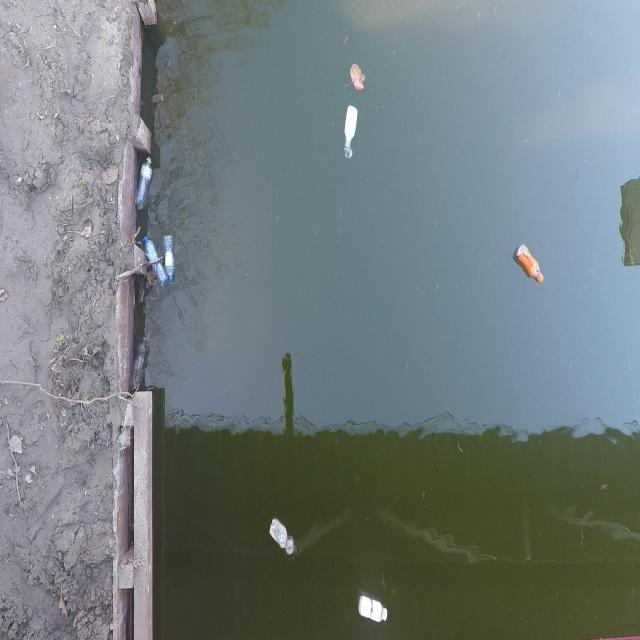Bouteille plastique: (140, 234, 169, 292), (512, 240, 546, 289), (267, 517, 300, 560), (134, 154, 154, 212), (342, 105, 360, 160), (358, 594, 390, 624), (162, 230, 177, 287)
